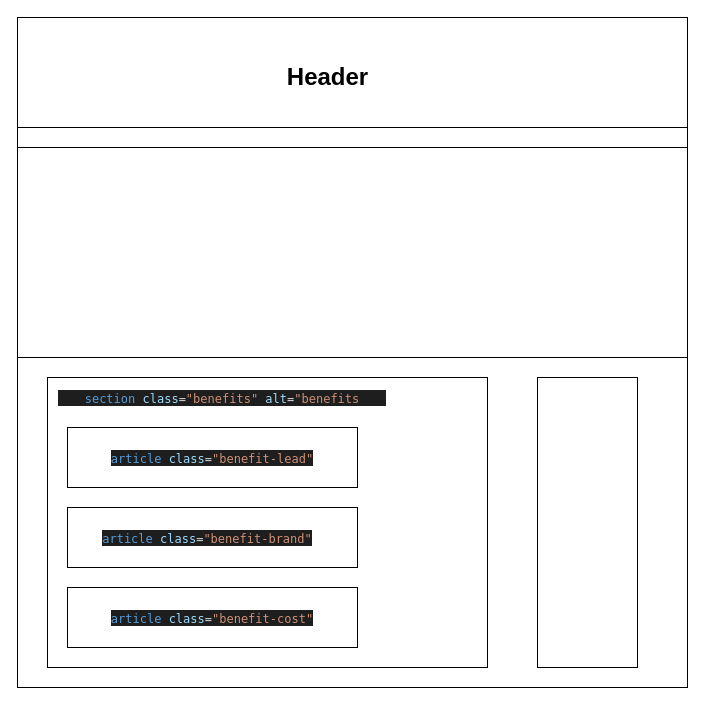
Some shapes in this 705 by 705 pixel diagram are drawn without their labels. Here are the shapes that lost their labels. From the top down, the box of each, then its label:
(16, 146, 688, 358): Hero
(536, 376, 638, 668): < section class = "benefits" alt = "benefits section is on the side" >
